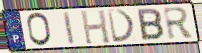B: (136, 8, 166, 42)
D: (106, 8, 137, 44)
H: (79, 8, 112, 45)
I: (63, 11, 76, 46)
O: (26, 12, 53, 48)
R: (162, 6, 196, 41)
